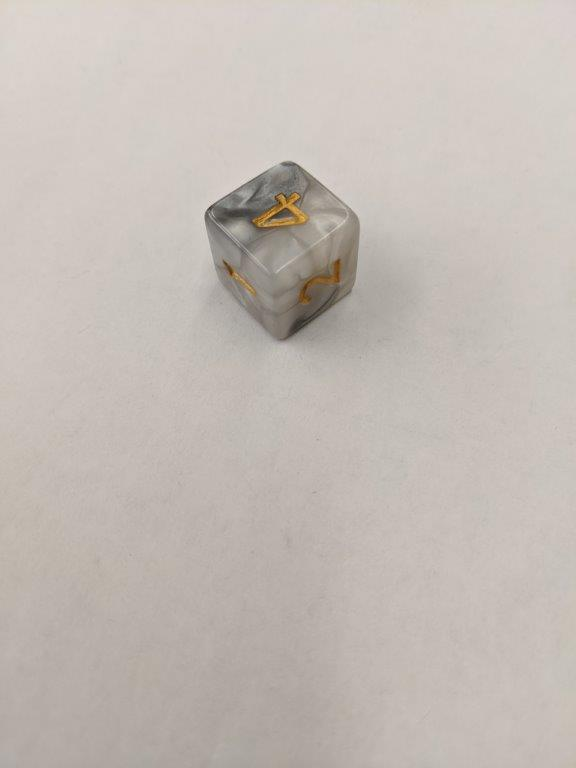d6-4: (205, 159, 363, 340)
